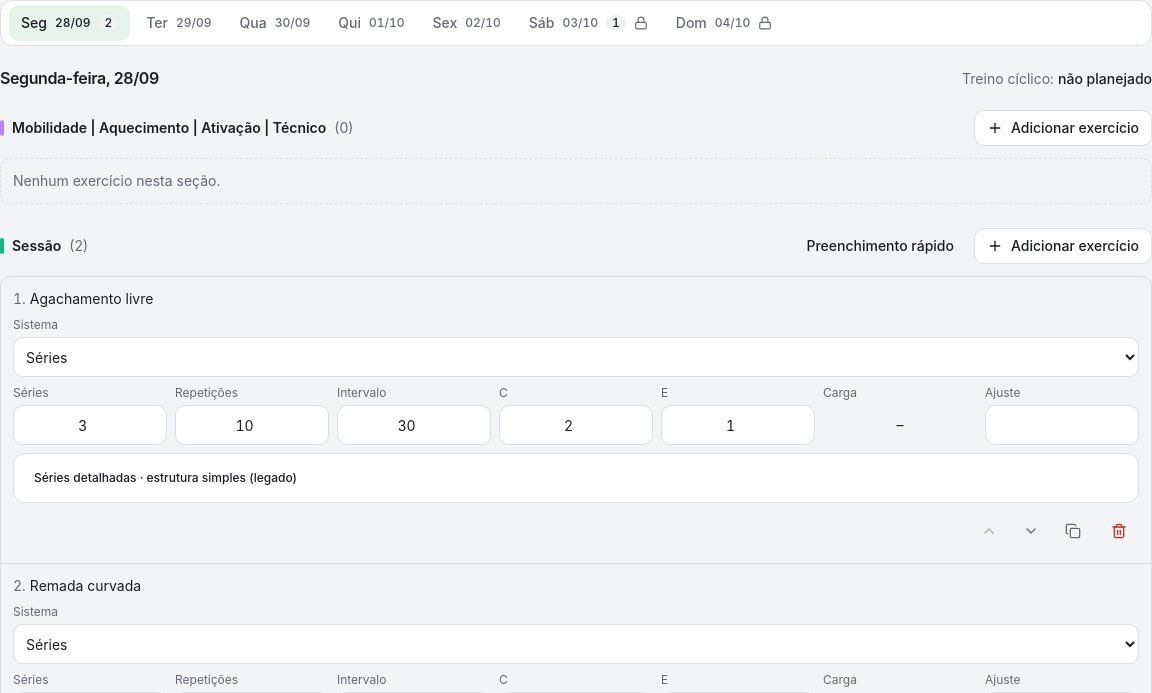
Test case: WorkoutBuilderResistance › preenchimento rápido mantém os valores atuais nos campos deixados vazios
The width and height of the screenshot is (1152, 693).
Click the button "Preenchimento rápido".
click(880, 246)  # box [794, 228, 966, 264]
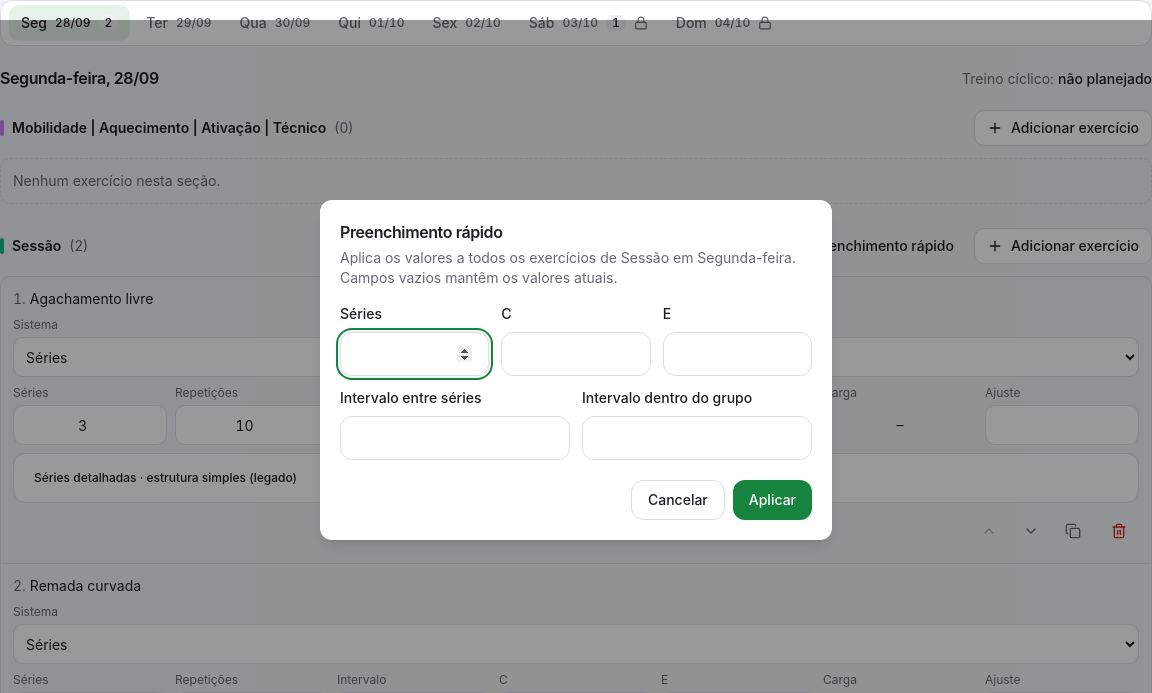
Type "5" into the number field labelled "C".
click(576, 354); type("5")  # box [501, 332, 651, 376]
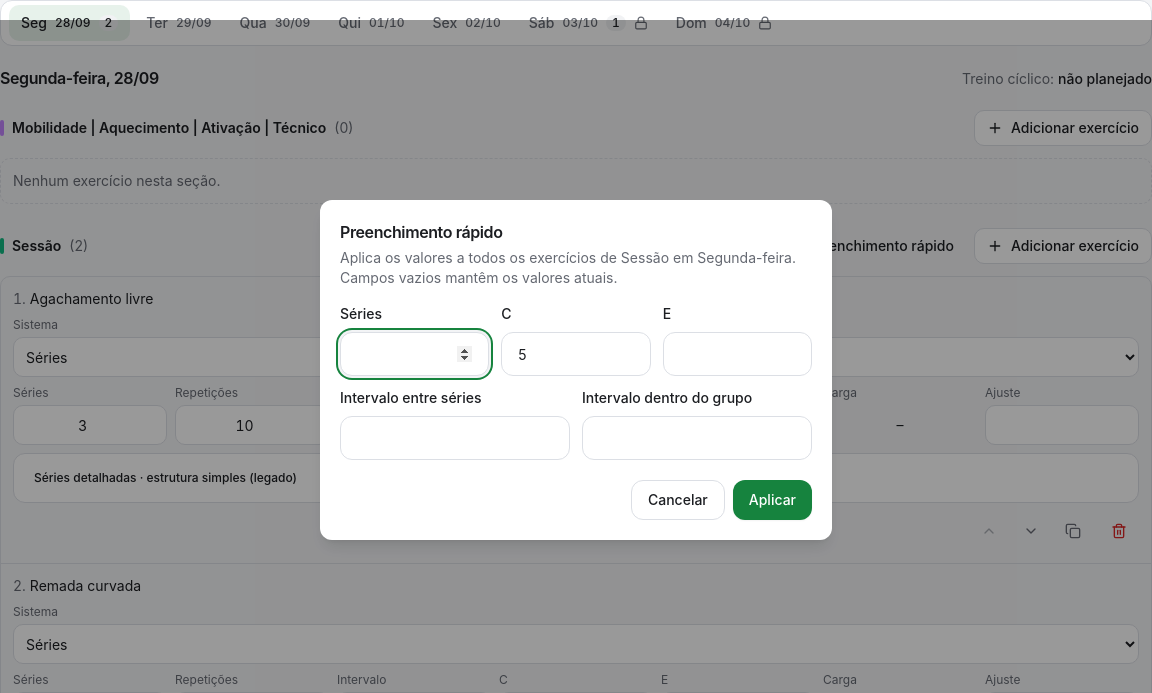
Click the button "Aplicar".
click(772, 500)  # box [733, 480, 812, 520]
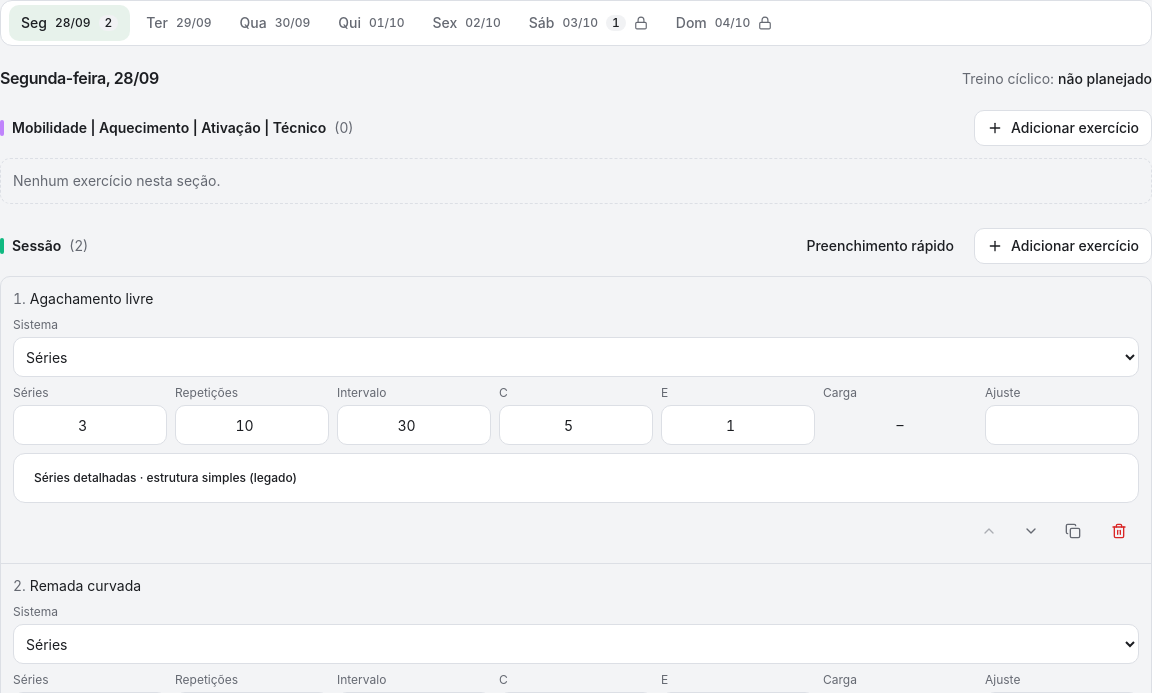
Expected: the dialog is gone
